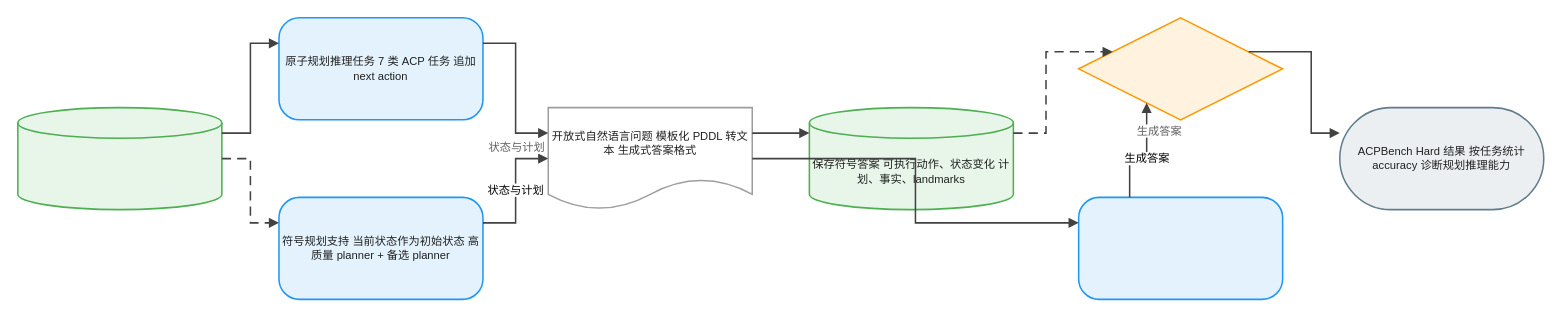
Some shapes in this 1563 by 318 pixel diagram are drawn without their labels. The shapes that lost their labels are listed below. From the top down, each one's box as (x1, y1, x2, y2) in pixels, then its label:
(1077, 17, 1283, 120): 任务级验证器 解析模型生成答案 按任务规则校验正确性
(17, 106, 222, 210): 规划领域 13 个 PDDL 领域 继承自 ACPBench
(1077, 196, 1283, 300): LLM 评测 回答各类生成式任务 不再提供多选项
